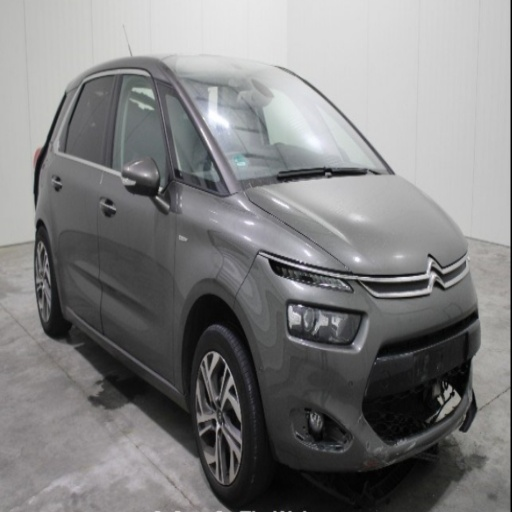scratch: (357, 440, 398, 472), (396, 439, 418, 456), (357, 413, 362, 425)
